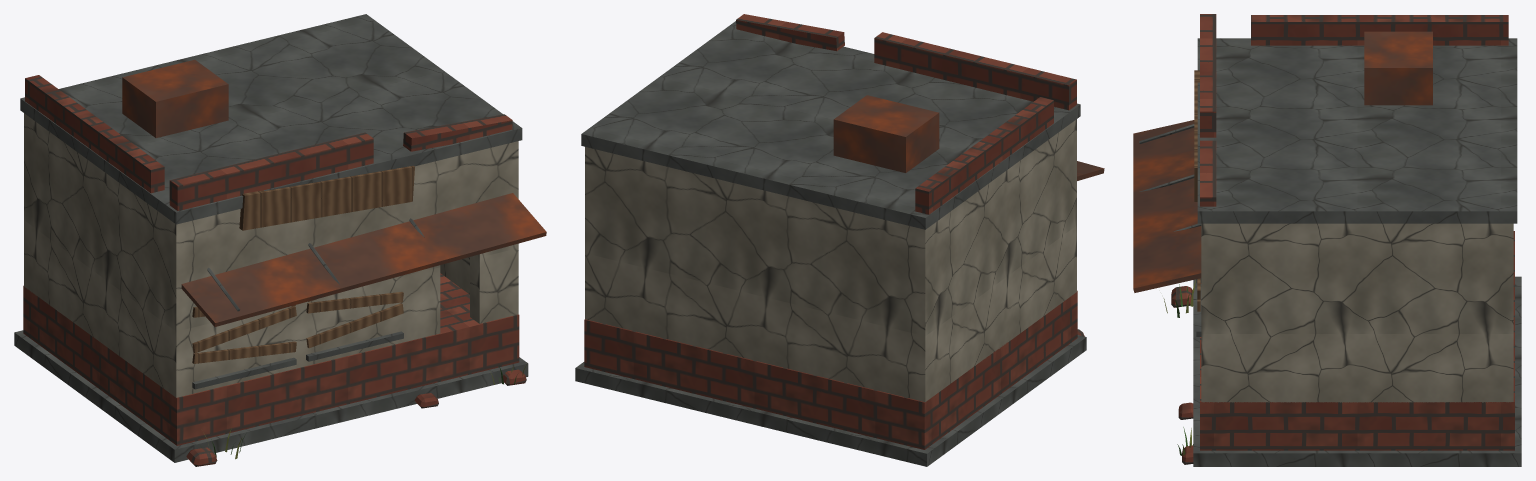
Rendered from env_building_ruined_store.glb.
The picture shows the model from 3 angles, left to right: view 1: azimuth 30°, elevation 25°; view 2: azimuth 150°, elevation 25°; view 3: azimuth 270°, elevation 25°; orthographic projection. The views are drawn at different scales.
Parts seen in each view (by area): view 1: Env_building_ruined_store; view 2: Env_building_ruined_store; view 3: Env_building_ruined_store.
Boxes of the visible parts, x1,y1,x2,y2 form: Env_building_ruined_store: (14, 14, 546, 466); Env_building_ruined_store: (575, 14, 1104, 466); Env_building_ruined_store: (1133, 14, 1521, 466).
Bounding box in the file's own units: 5.6 × 4.33 × 5.2.
Materials: 8 (7 with a texture image).
